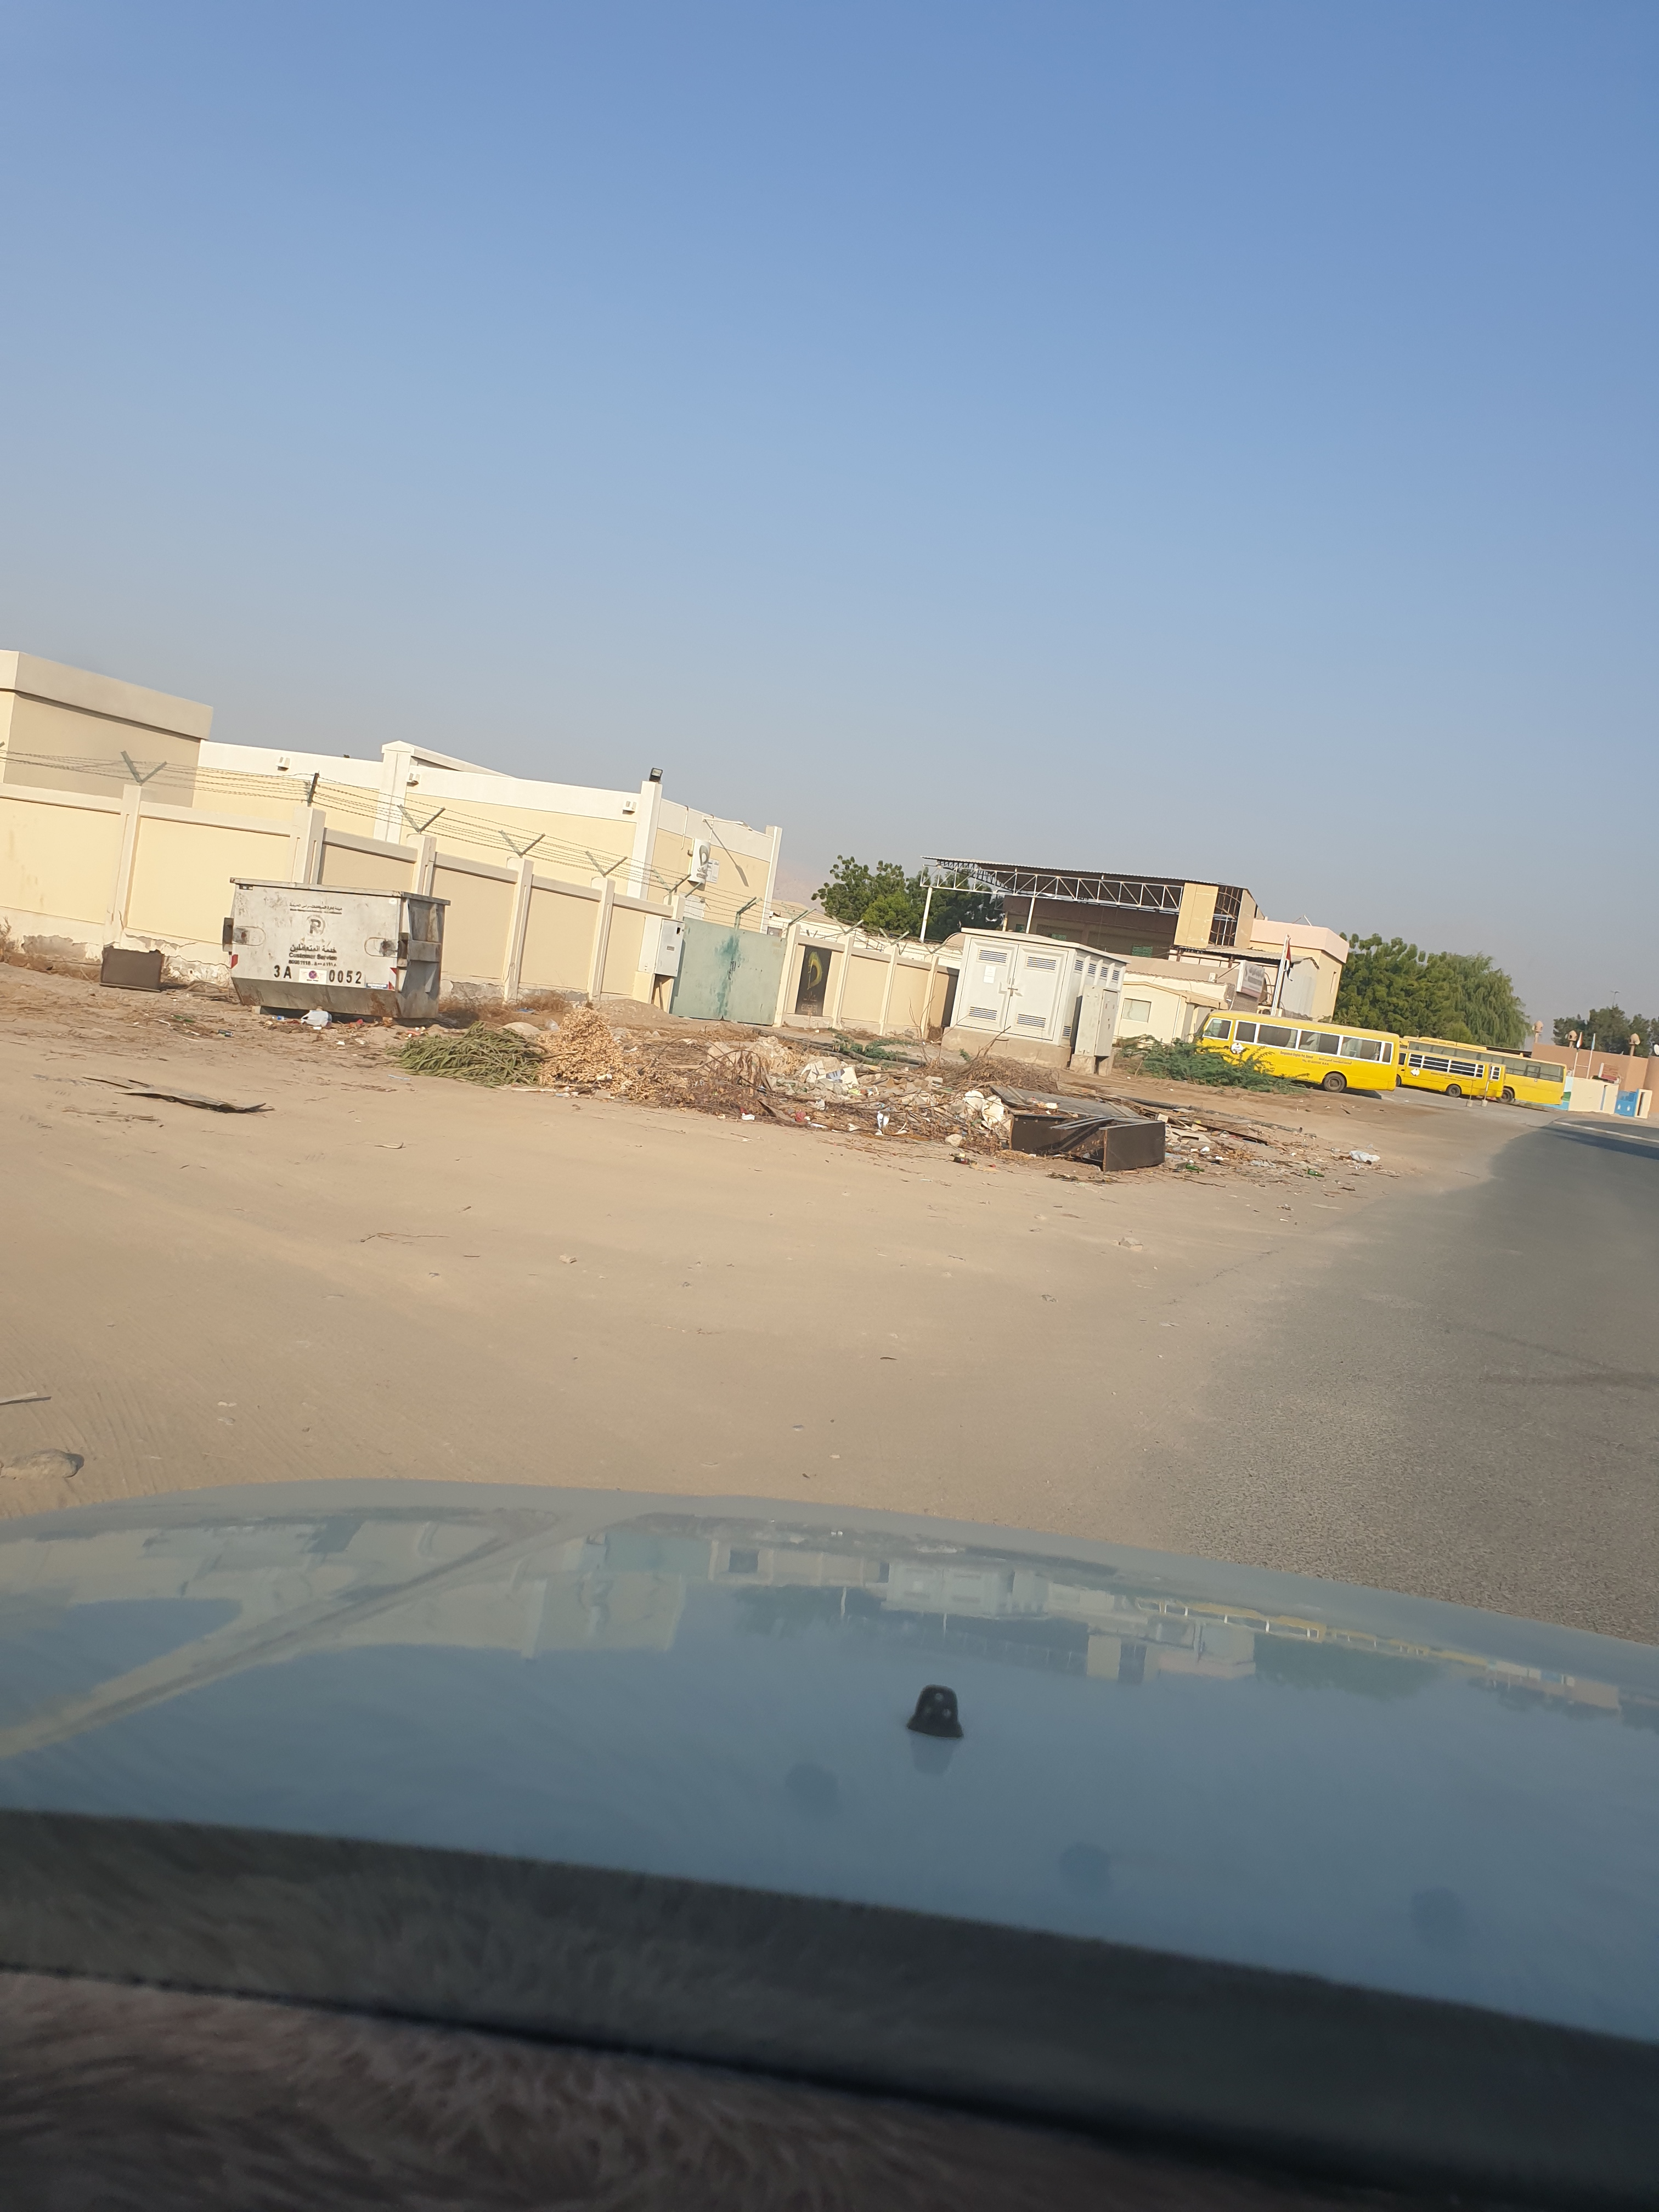fallen_trees: (659, 1022, 843, 1141), (533, 995, 688, 1116), (803, 1045, 957, 1167), (406, 1024, 587, 1097)
uncollected_waste: (978, 1071, 1169, 1183)
